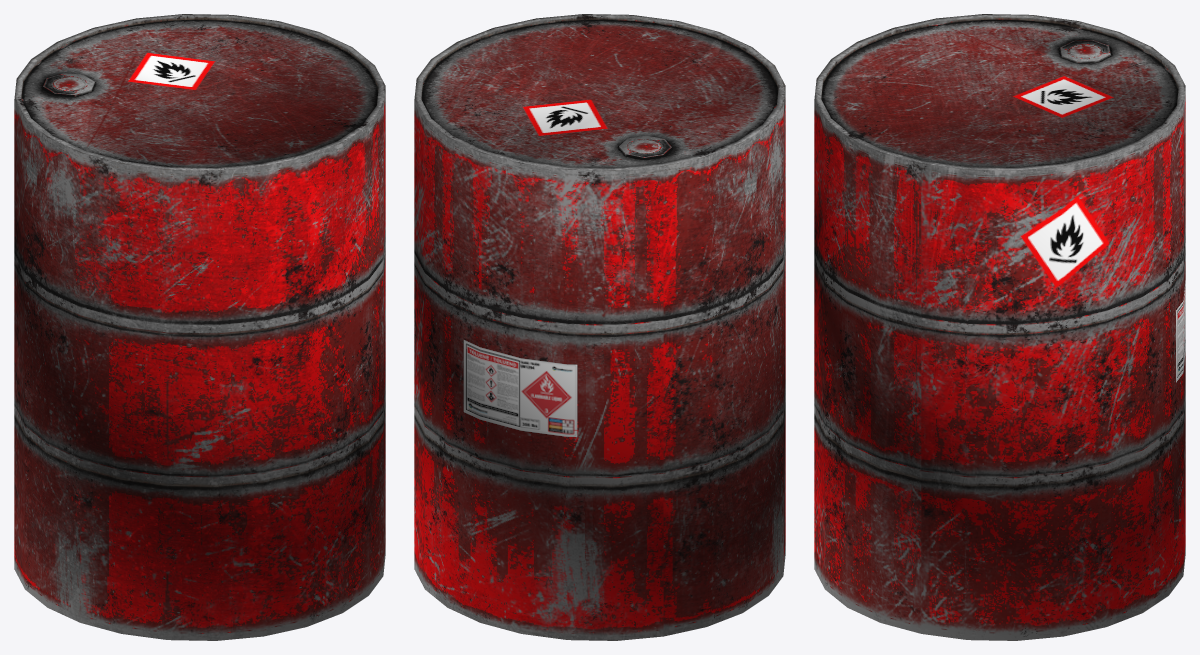
File: barelRed.fbx
The picture shows the model from 3 angles, left to right: view 1: azimuth 30°, elevation 25°; view 2: azimuth 150°, elevation 25°; view 3: azimuth 270°, elevation 25°; orthographic projection.
Parts seen in each view (by area): view 1: Barrel04_0; view 2: Barrel04_0; view 3: Barrel04_0.
Boxes of the visible parts, bbox=[...] form: Barrel04_0: bbox=[14, 14, 385, 640]; Barrel04_0: bbox=[414, 14, 785, 640]; Barrel04_0: bbox=[814, 14, 1185, 640].
Size of the model in its own units: 220 by 307 by 220.
